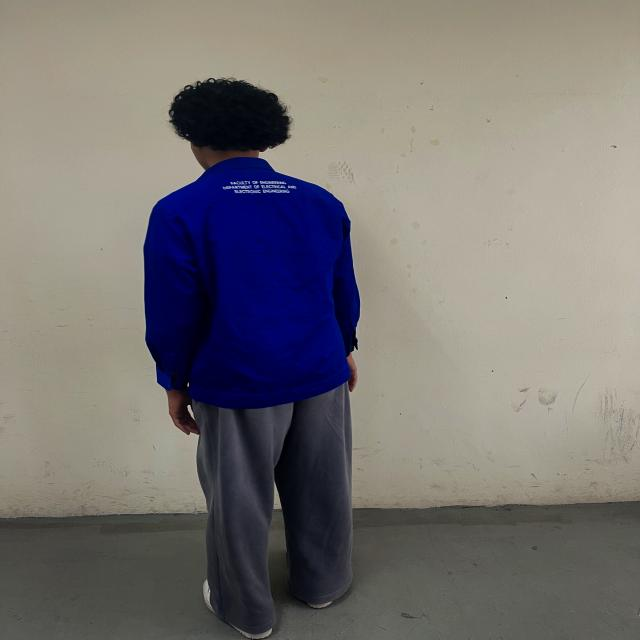person_with_labcoat: (144, 79, 360, 640)
